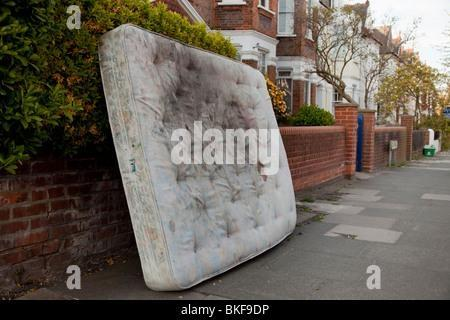Bed-Mattress: (99, 24, 297, 291)
